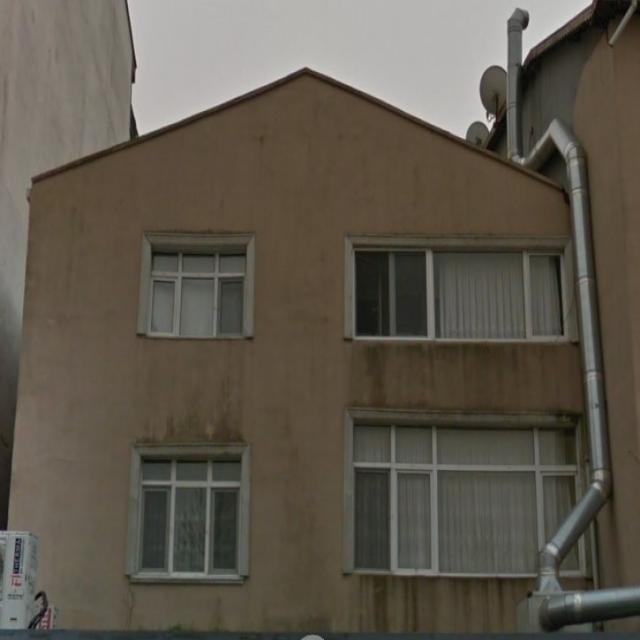Building: (7, 66, 594, 632)
